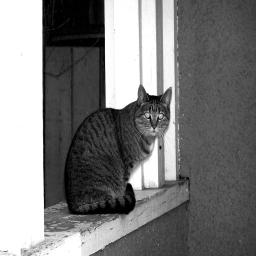catnose: (152, 124, 156, 131)
